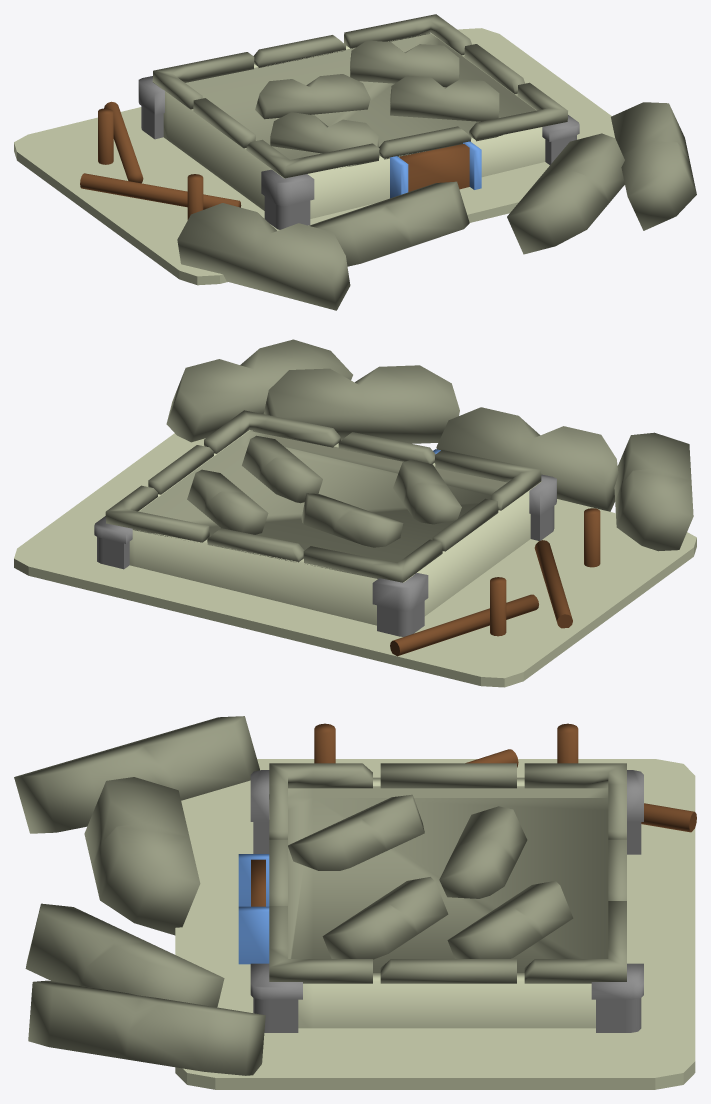
3 views of the same model, one above another, from view 1: azimuth 30°, elevation 25°; view 2: azimuth 150°, elevation 25°; view 3: azimuth 270°, elevation 25° (orthographic). The views are drawn at different scales.
Visible parts, largest first — view 1: Cube.183; view 2: Cube.183; view 3: Cube.183.
Part boxes in pixels (<box>): Cube.183: <box>14,14,696,310</box>; Cube.183: <box>14,339,696,687</box>; Cube.183: <box>14,716,696,1089</box>.
Size of the model in its own units: 841 by 115 by 732.
